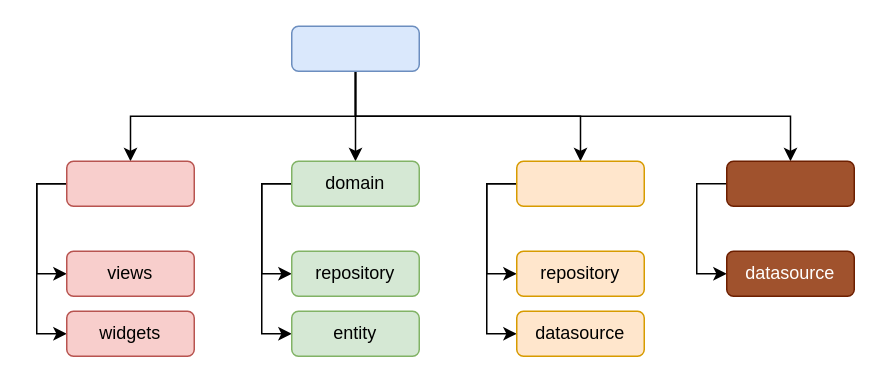
This 881x383 diagram has some shape labels left out. The shapes that lost their labels are listed below. From the top down, each one's box as (x1, y1, x2, y2) in pixels, then its label:
(290, 25, 419, 71): lib
(65, 160, 194, 206): presentation
(515, 160, 644, 206): data
(725, 160, 854, 206): external
